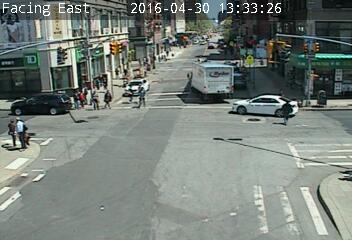neg: (78, 117, 108, 157), (310, 127, 338, 165), (330, 184, 351, 214), (170, 52, 191, 81), (45, 16, 66, 44), (35, 163, 55, 190), (199, 70, 216, 92), (313, 28, 330, 50), (298, 56, 315, 78), (274, 24, 290, 46), (98, 39, 113, 58), (164, 22, 179, 41), (18, 22, 32, 39), (231, 92, 244, 110), (154, 63, 167, 81), (75, 41, 88, 58), (301, 22, 314, 39), (35, 47, 47, 63), (50, 54, 62, 70), (183, 20, 195, 35), (209, 17, 221, 32), (13, 49, 24, 63), (81, 19, 91, 34), (254, 21, 263, 32), (225, 17, 232, 27), (125, 29, 131, 36)
pos: (12, 116, 34, 145), (280, 98, 300, 125), (85, 88, 101, 110), (122, 83, 137, 103), (136, 85, 150, 104), (101, 88, 115, 107), (99, 71, 113, 89), (76, 89, 89, 106), (112, 65, 122, 78), (93, 76, 102, 88)
